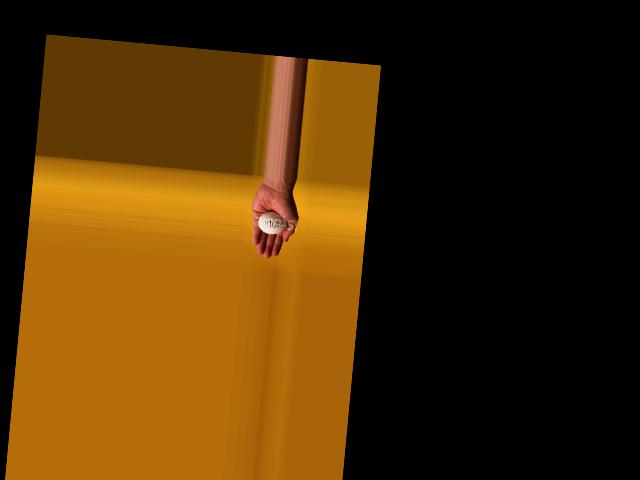egg: (257, 211, 287, 235)
